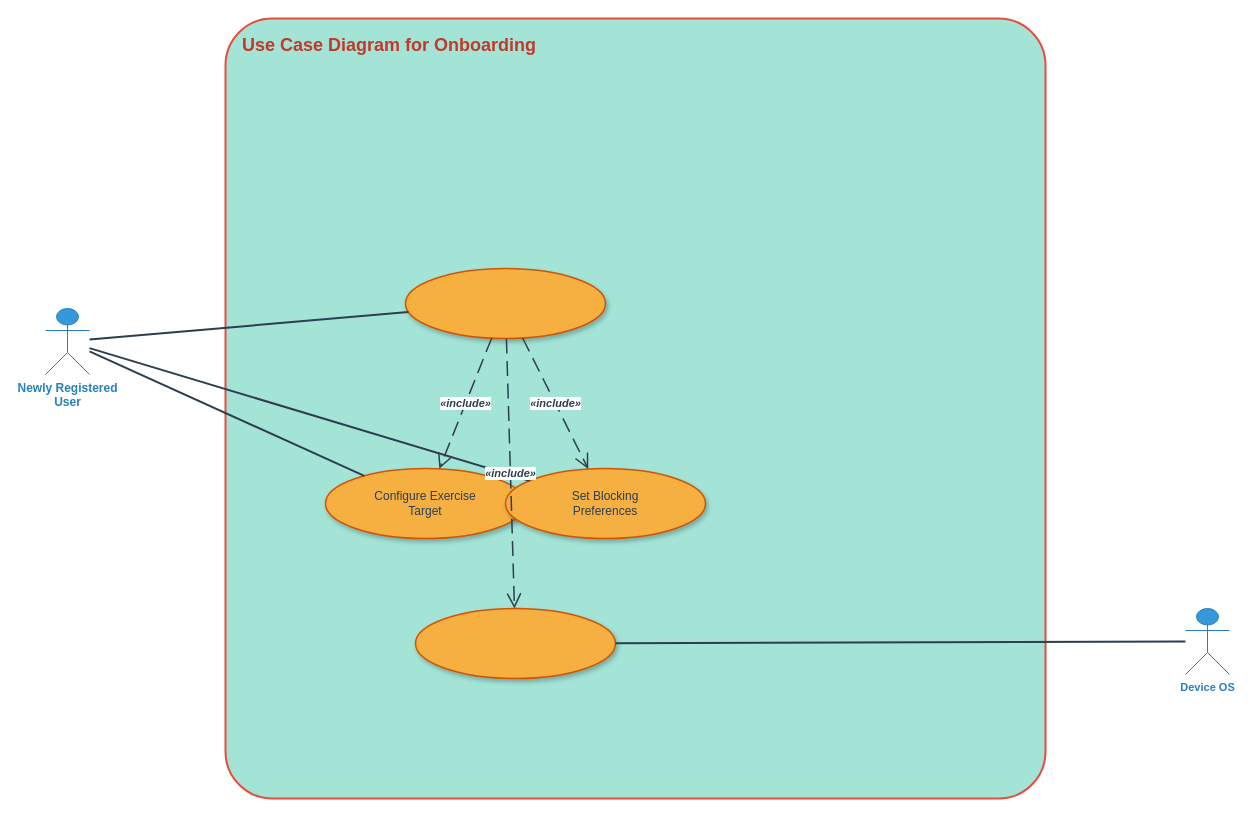
This 1251x816 diagram has some shape labels left out. The shapes that lost their labels are listed below. From the top down, each one's centre as x and y in pixels, then its label:
At (x=506, y=304): "Complete Onboarding".
At (x=516, y=644): "Grant Device Permissions".
